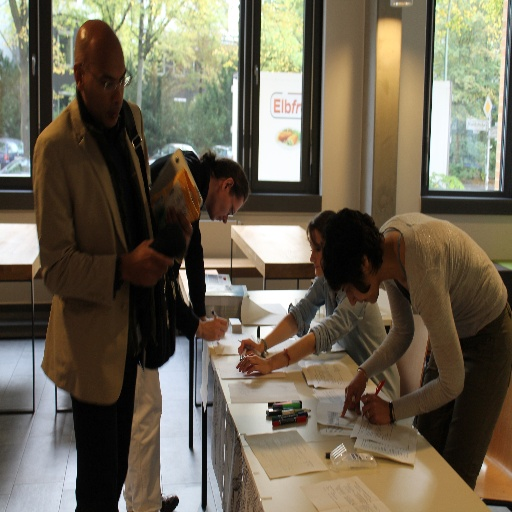hand: (126, 238, 173, 290), (164, 204, 193, 247), (340, 373, 367, 417), (360, 394, 391, 427), (234, 353, 271, 375), (206, 316, 228, 342), (237, 336, 260, 359)
